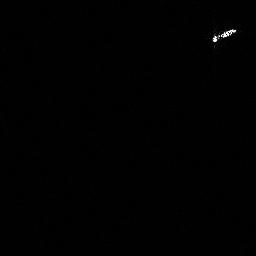ship: (208, 25, 239, 45)
